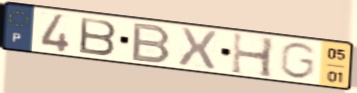4: (38, 12, 73, 54)
B: (129, 21, 174, 65), (78, 15, 120, 58)
G: (277, 41, 319, 81)
H: (229, 30, 277, 80)
X: (176, 25, 220, 71)
